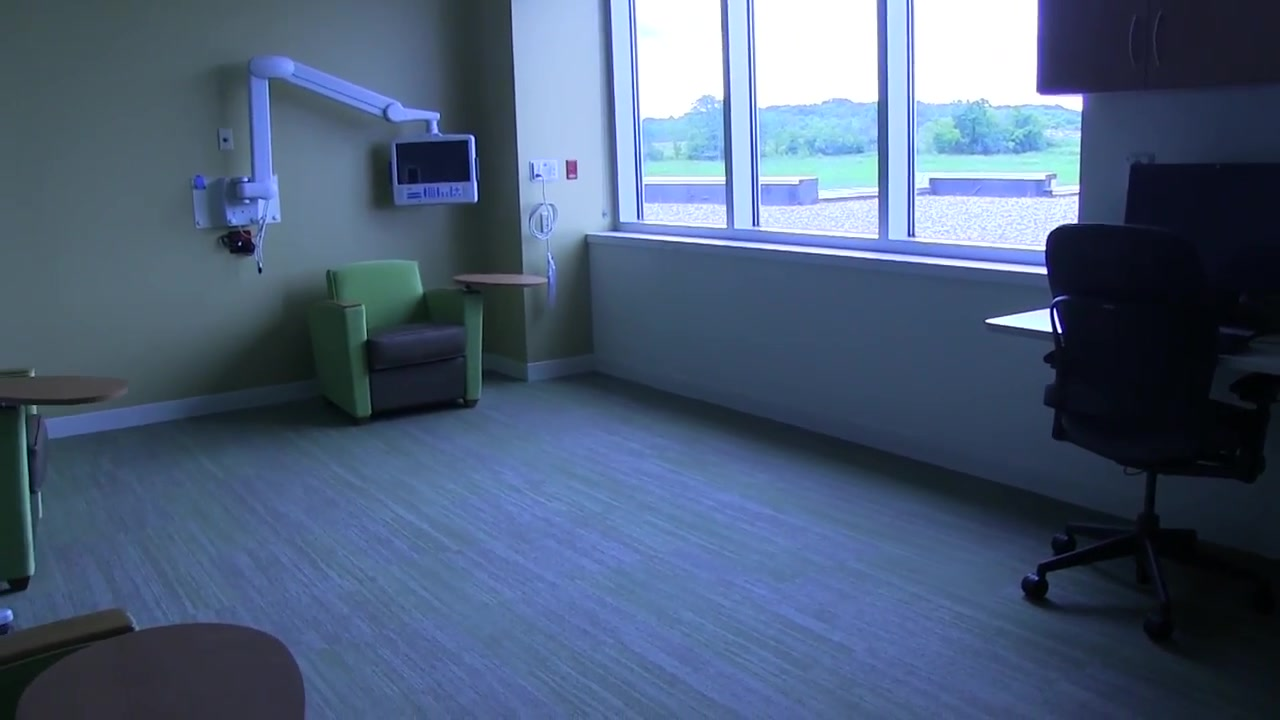bedside_monitor: (390, 133, 478, 206)
cabinet: (1038, 1, 1280, 94)
chair: (1021, 222, 1278, 641)
computer: (1124, 163, 1279, 221)
countertop: (983, 302, 1280, 343)
handle: (1121, 10, 1139, 73), (1149, 9, 1166, 72)
sofa: (305, 259, 484, 425), (1, 607, 140, 720), (1, 366, 50, 590)
table: (15, 622, 318, 720), (1, 375, 130, 414), (453, 272, 549, 288)
